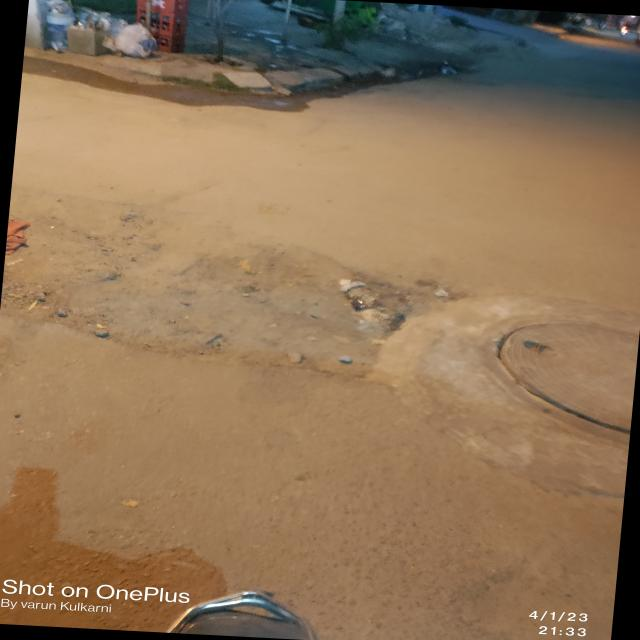manhole: (439, 284, 640, 464)
potholes: (2, 215, 432, 380)
